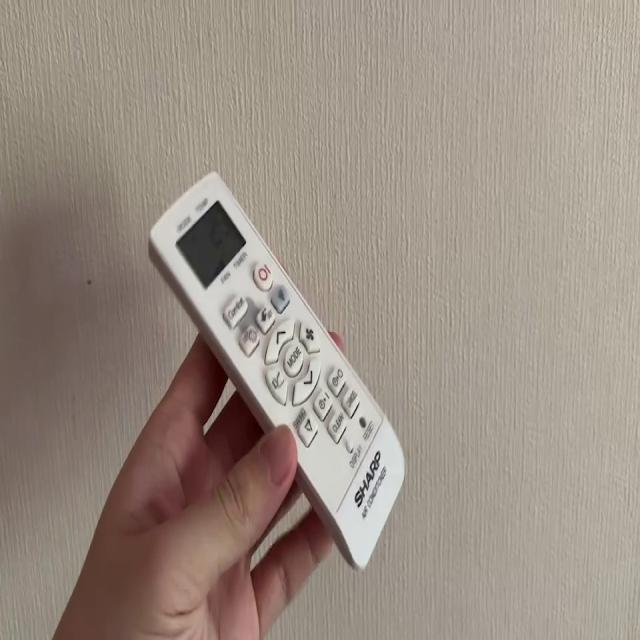remote: (149, 168, 408, 572)
